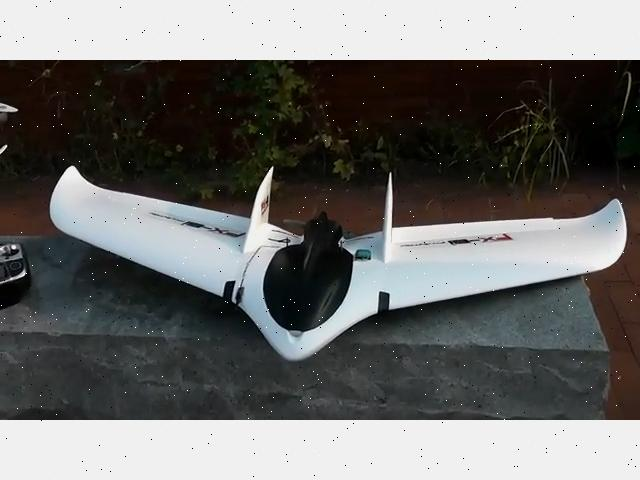Anti-Drone: (32, 122, 640, 392)
